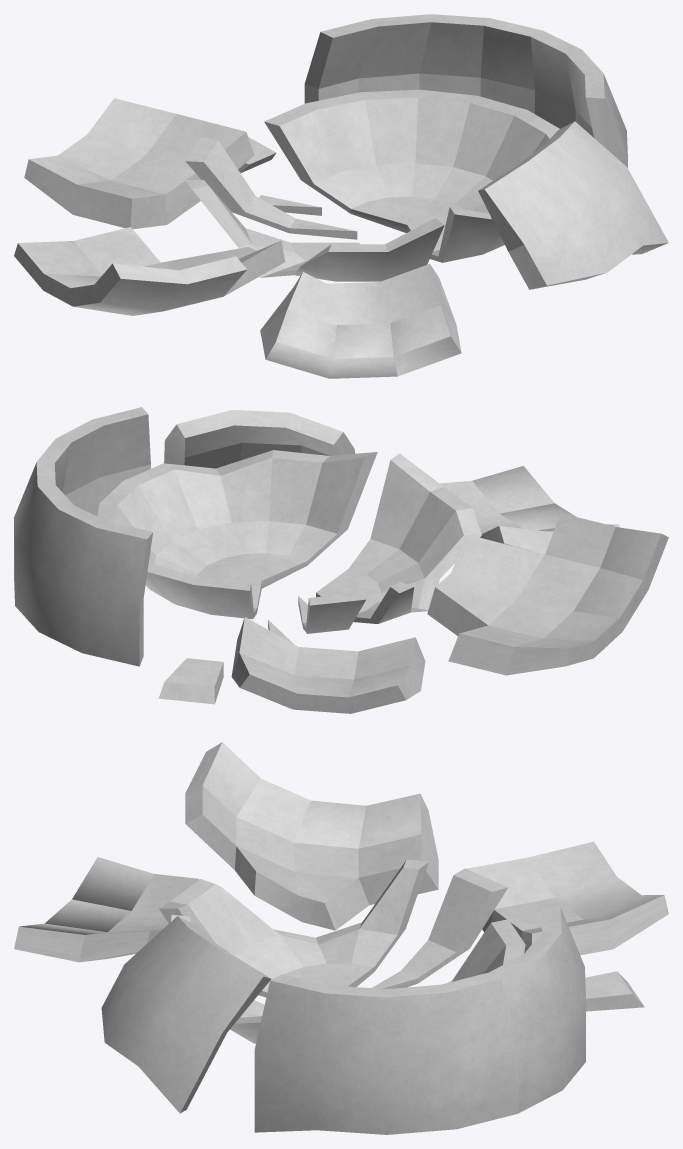
File: SM_Pot_Plante_casseFBX.FBX
3 renders of one model, top to bottom at view 1: azimuth 30°, elevation 25°; view 2: azimuth 150°, elevation 25°; view 3: azimuth 270°, elevation 25°, orthographic. The views are drawn at different scales.
Visible parts, largest first — view 1: Object227; view 2: Object227; view 3: Object227.
Boxes of the visible parts, left/top/right/bottom form: Object227: left=14, top=14, right=668, bottom=378; Object227: left=14, top=407, right=668, bottom=713; Object227: left=14, top=742, right=668, bottom=1134.
Size of the model in its own units: 79.05 by 18.4 by 75.7.
Materials: 1 (1 with a texture image).
